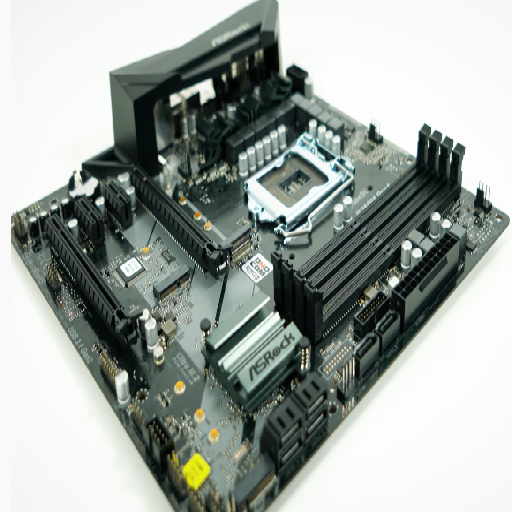CPU: (240, 132, 355, 249)
GPU: (41, 212, 143, 352), (126, 163, 237, 279)
MOTHERBOARD: (8, 2, 512, 461)
RAM: (269, 124, 469, 341)
SSD: (150, 261, 197, 302), (224, 223, 262, 266)
